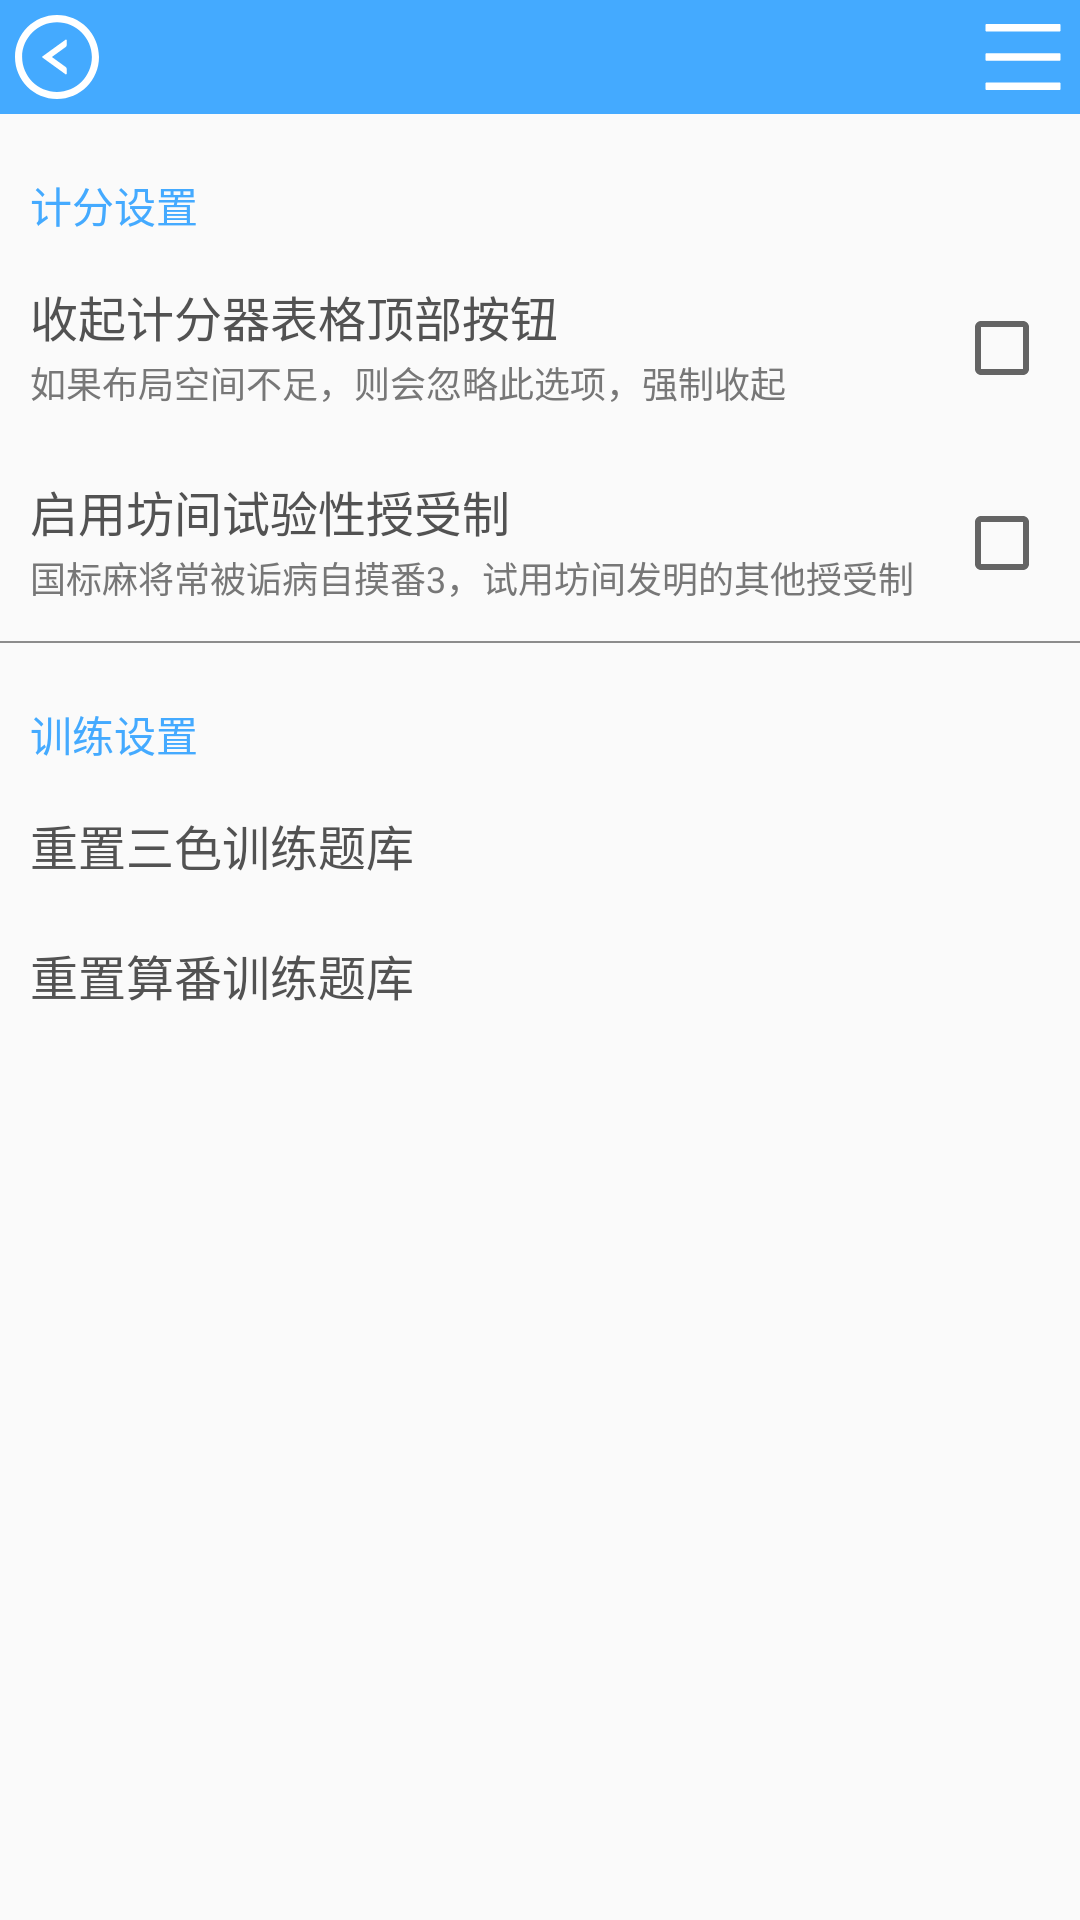

Where icons sit on this 1080 × 1920 app screen, as (x1, y1, x2, y2):
arrow left: (15, 15, 99, 99)
menu: (985, 24, 1061, 90)
